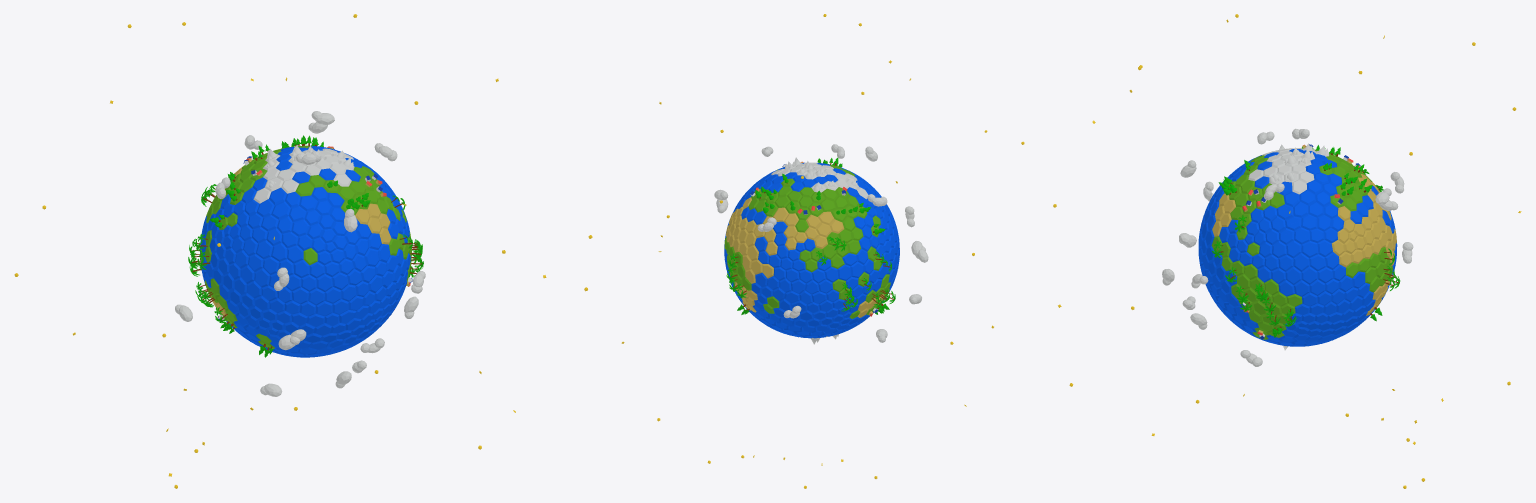
The model's file is planet_earth.glb.
3 views of the same model, side by side, from view 1: azimuth 30°, elevation 25°; view 2: azimuth 150°, elevation 25°; view 3: azimuth 270°, elevation 25° (orthographic). The views are drawn at different scales.
Parts seen in each view (by area): view 1: Earth, Clouds and Stars, Earth Details; view 2: Earth, Earth Details, Clouds and Stars; view 3: Earth, Earth Details, Clouds and Stars.
Boxes of the visible parts, bbox=[...] form: Earth: bbox=[200, 145, 411, 357]; Clouds and Stars: bbox=[14, 14, 592, 488]; Earth Details: bbox=[188, 135, 423, 357]; Earth: bbox=[724, 162, 899, 338]; Earth Details: bbox=[726, 157, 895, 344]; Clouds and Stars: bbox=[621, 14, 1024, 488]; Earth: bbox=[1198, 148, 1397, 346]; Earth Details: bbox=[1212, 143, 1400, 350]; Clouds and Stars: bbox=[1053, 14, 1521, 488].
Size of the model in its own units: 18.1 by 18.4 by 17.05.
Materials: 1 (1 with a texture image).
